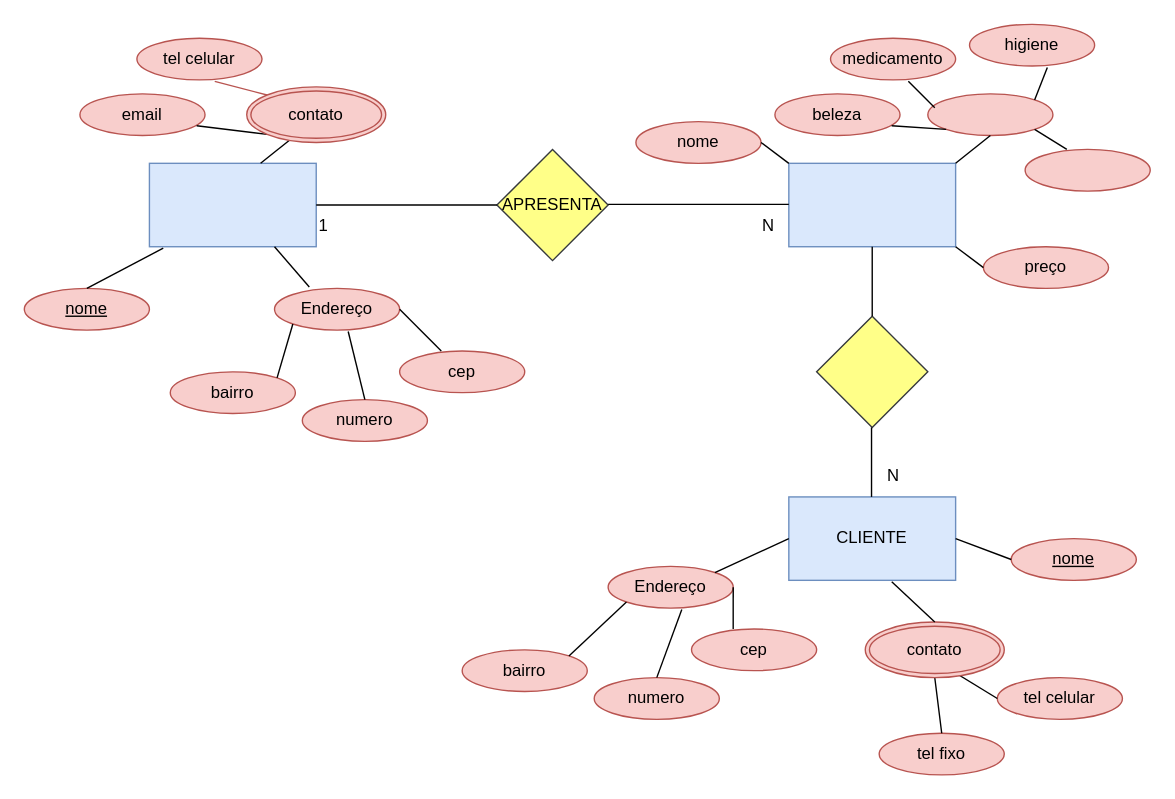
The diagram is 1175 pixels wide and 799 high, and some of its shapes have lost their labels. Each missing label, with the centre of its shape:
"CONSULTA" goes at point 871,371.
"LOJA" goes at point 232,204.
"PRODUTO" goes at point 871,204.
"suplemento" goes at point 1087,169.
"tipo" goes at point 989,114.
